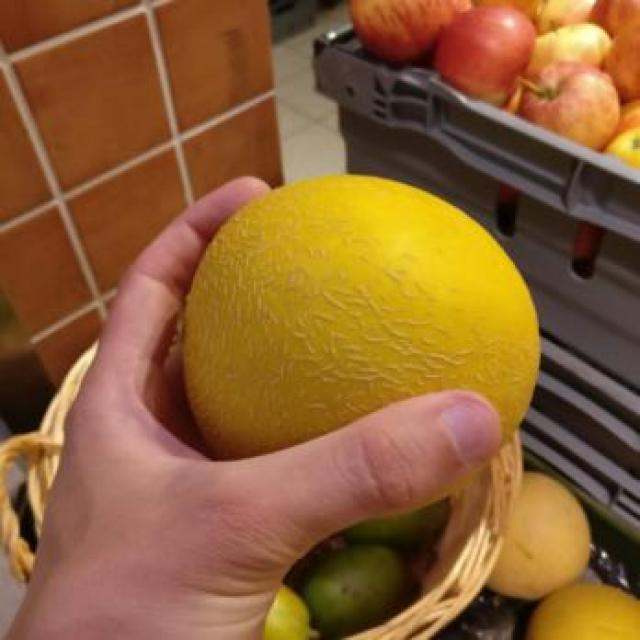Galia: (180, 175, 540, 462)
